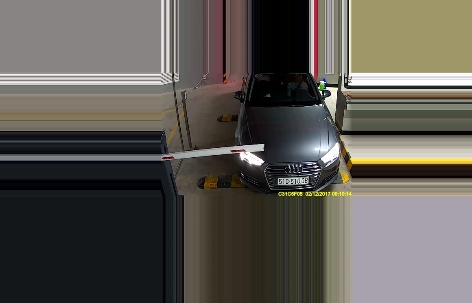plate: (278, 175, 311, 187)
